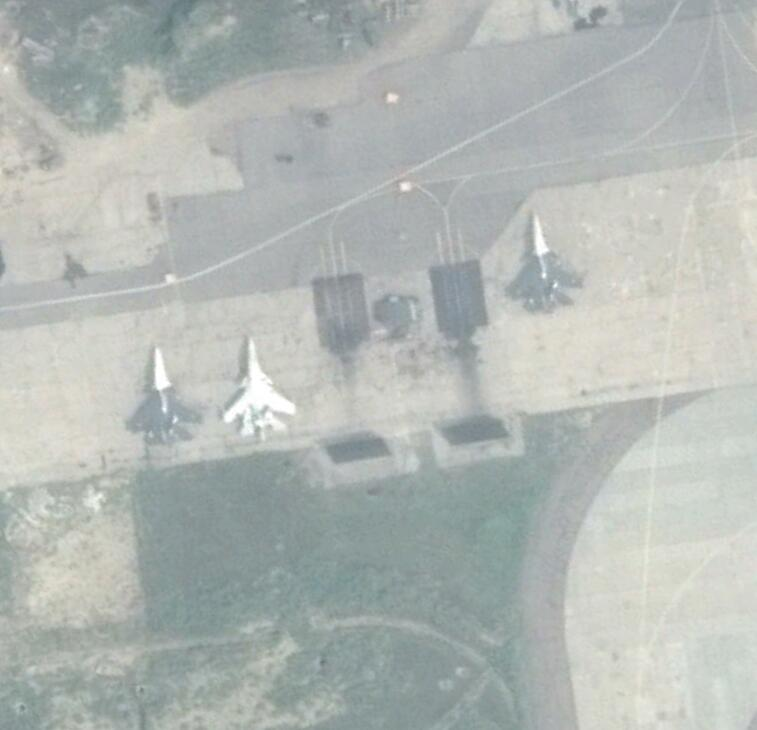A19: (213, 333, 299, 442), (122, 344, 206, 451), (500, 211, 585, 315)
